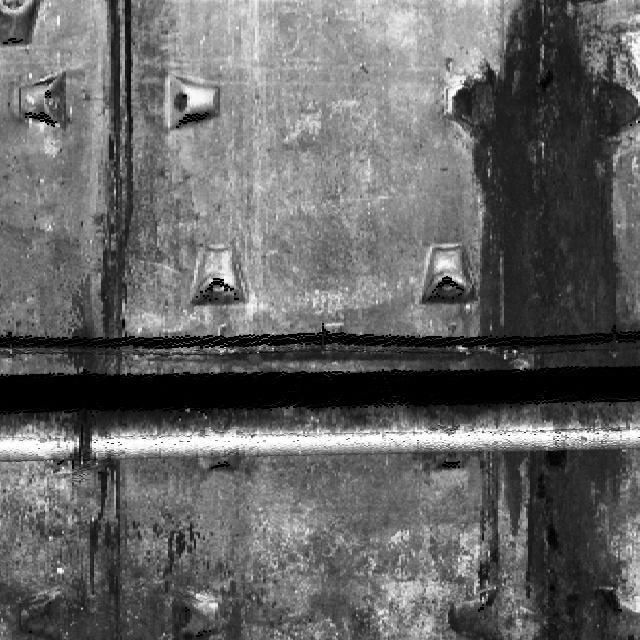leakage: (442, 0, 639, 368), (470, 437, 639, 639), (71, 0, 154, 370), (68, 419, 133, 639)
